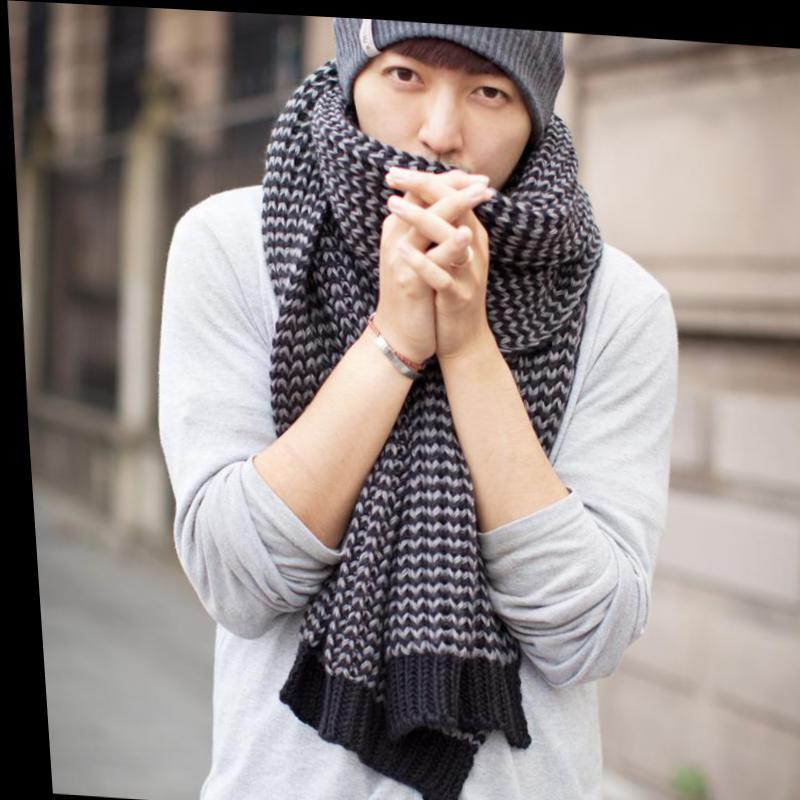WRONG: (362, 42, 530, 215)
